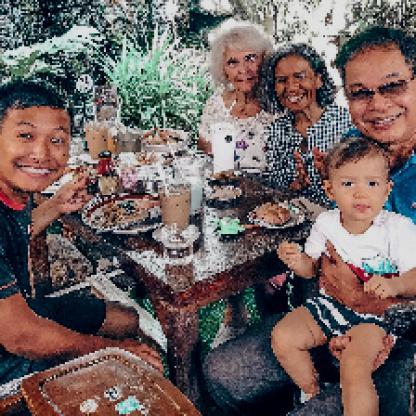child: (270, 137, 415, 416)
